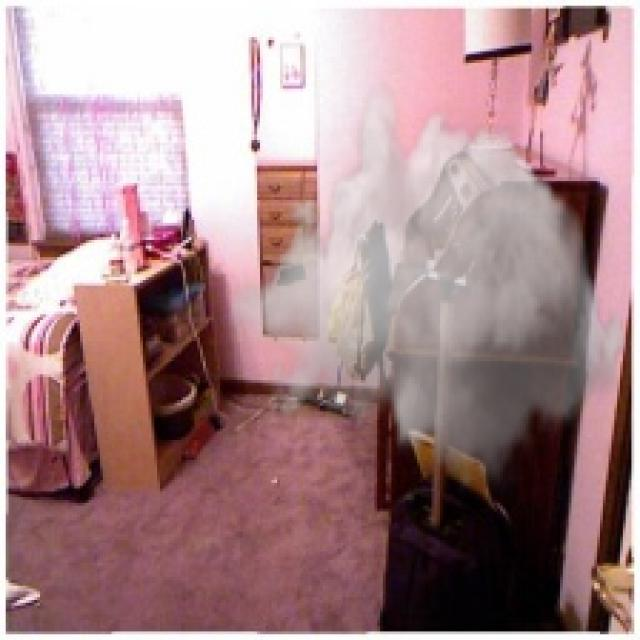smoke: (228, 83, 632, 497)
